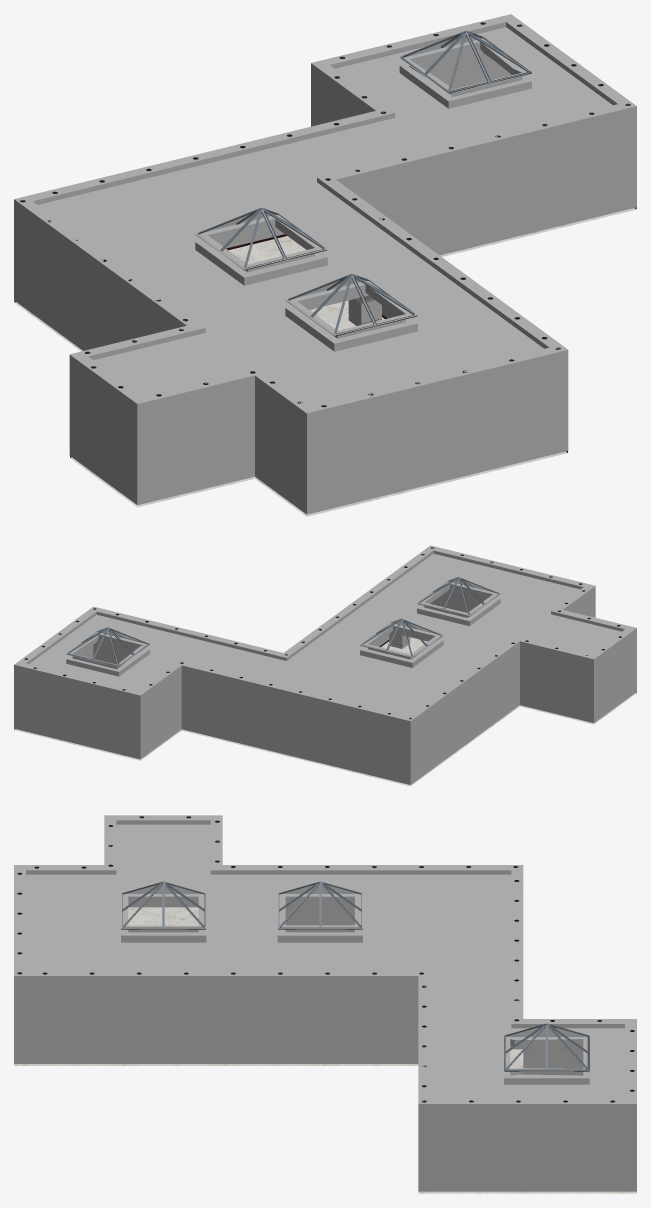
The picture shows the model from 3 angles, top to bottom: view 1: azimuth 30°, elevation 25°; view 2: azimuth 150°, elevation 25°; view 3: azimuth 270°, elevation 25°; orthographic projection. The views are drawn at different scales.
Visible parts, largest first — view 1: ceiling_7, frame_4, Floor_5, Light_01_1, Stend_0; view 2: ceiling_7, frame_4, Floor_5, Light_01_1; view 3: ceiling_7, frame_4, Floor_5, Glass_3, Light_01_1.
Boxes of the visible parts, x1=… form: ceiling_7: x1=14, y1=14, x2=636, y2=514; frame_4: x1=195, y1=31, x2=531, y2=336; Floor_5: x1=14, y1=208, x2=636, y2=516; Light_01_1: x1=20, y1=22, x2=630, y2=407; Stend_0: x1=348, y1=295, x2=381, y2=325; ceiling_7: x1=14, y1=545, x2=636, y2=784; frame_4: x1=66, y1=577, x2=499, y2=666; Floor_5: x1=14, y1=637, x2=636, y2=786; Light_01_1: x1=24, y1=547, x2=621, y2=719; ceiling_7: x1=14, y1=815, x2=636, y2=1191; frame_4: x1=121, y1=882, x2=589, y2=1071; Floor_5: x1=14, y1=907, x2=636, y2=1193; Glass_3: x1=130, y1=881, x2=585, y2=1034; Light_01_1: x1=17, y1=816, x2=634, y2=1102.
Size of the model in its own units: 27.04 by 5.65 by 24.68.
7 materials, 3 textured.
